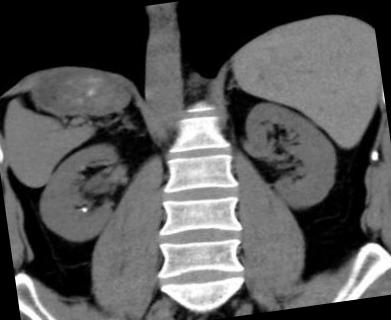Tas_Var: (79, 205, 89, 214)
